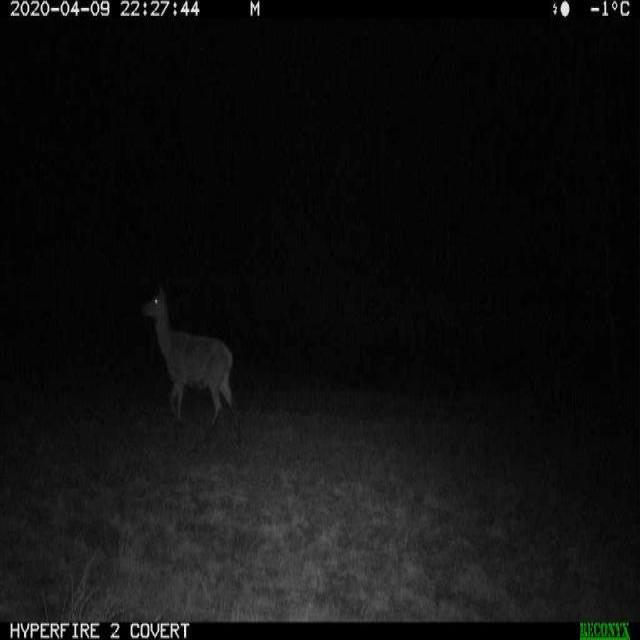deer: (132, 278, 244, 447)
